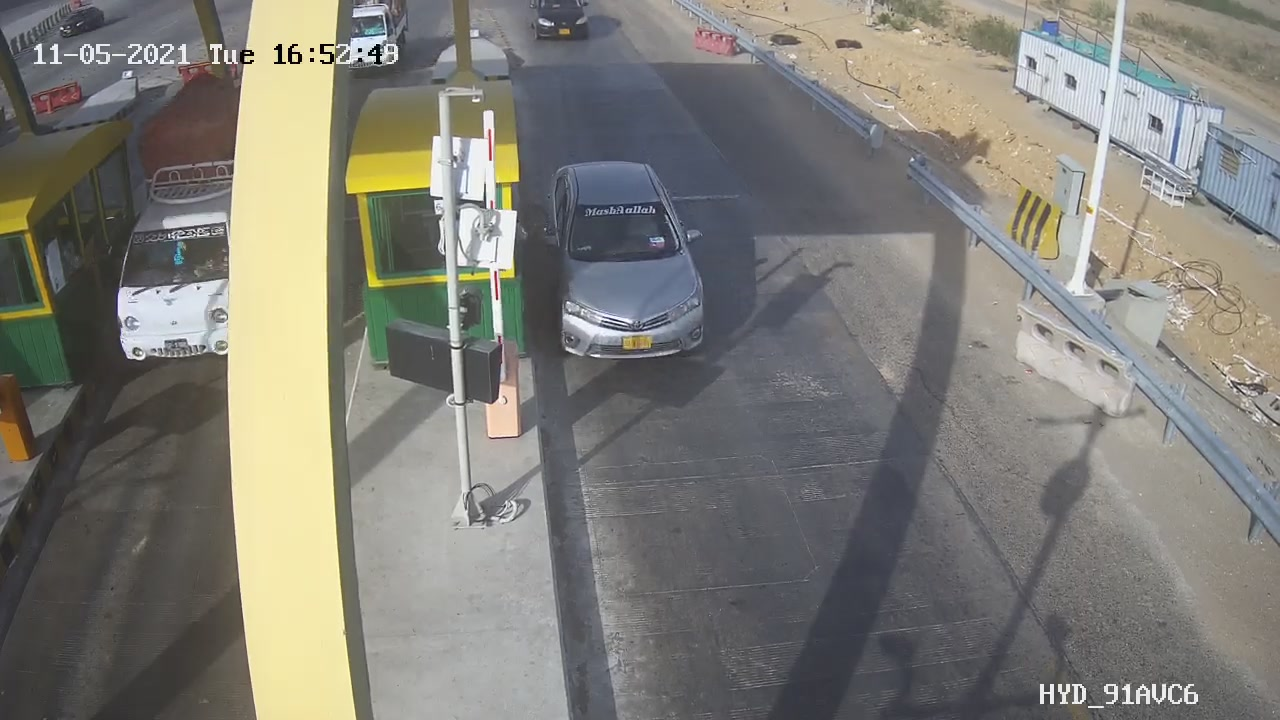F1: (527, 146, 734, 383)
